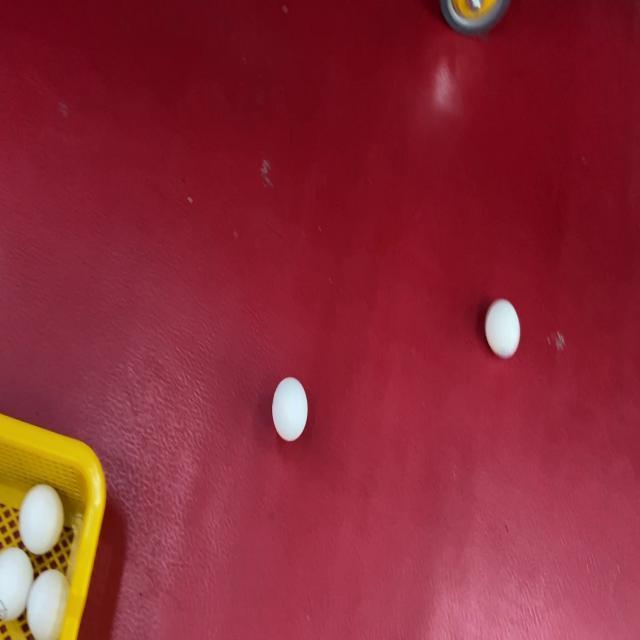ping-pong-ball: (19, 482, 66, 560), (26, 565, 74, 640), (1, 540, 36, 632), (269, 370, 311, 446), (482, 295, 524, 362)
